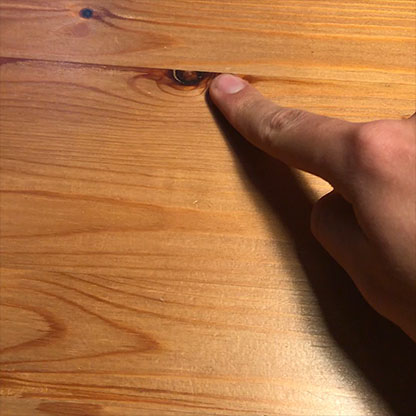fingertip: (203, 65, 258, 107)
